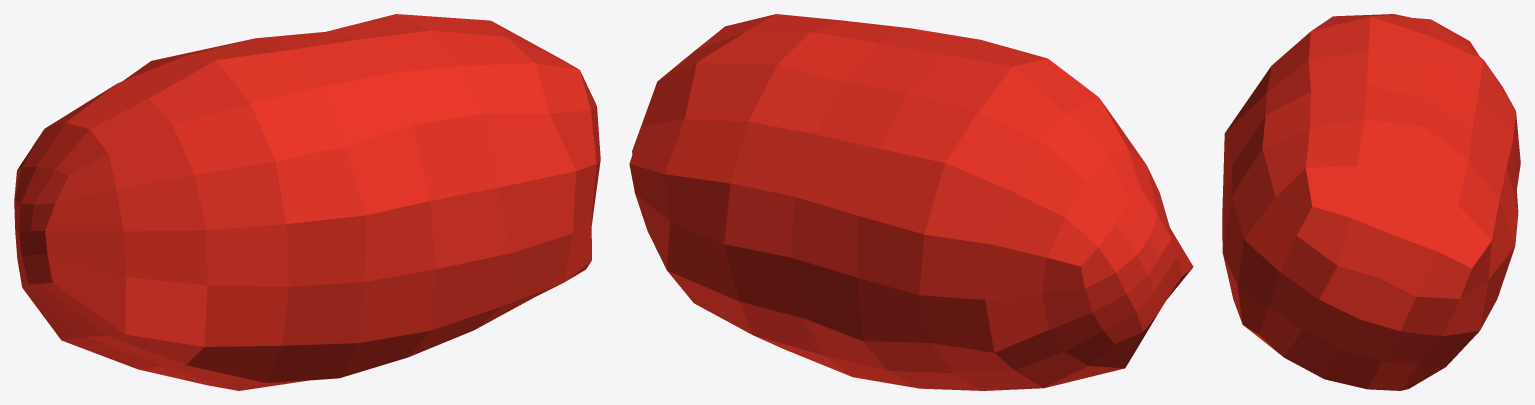
File: Asteroid.fbx
3 renders of one model, left to right at view 1: azimuth 30°, elevation 25°; view 2: azimuth 150°, elevation 25°; view 3: azimuth 270°, elevation 25°, orthographic. The views are drawn at different scales.
Parts seen in each view (by area): view 1: Sphere; view 2: Sphere; view 3: Sphere.
Boxes of the visible parts, x1,y1,x2,y2 form: Sphere: (14, 14, 600, 390); Sphere: (629, 14, 1193, 390); Sphere: (1222, 14, 1520, 390).
Size of the model in its own units: 1851 by 1103 by 1062.
